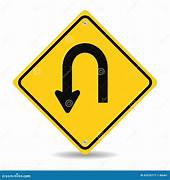back: (11, 9, 158, 156)
